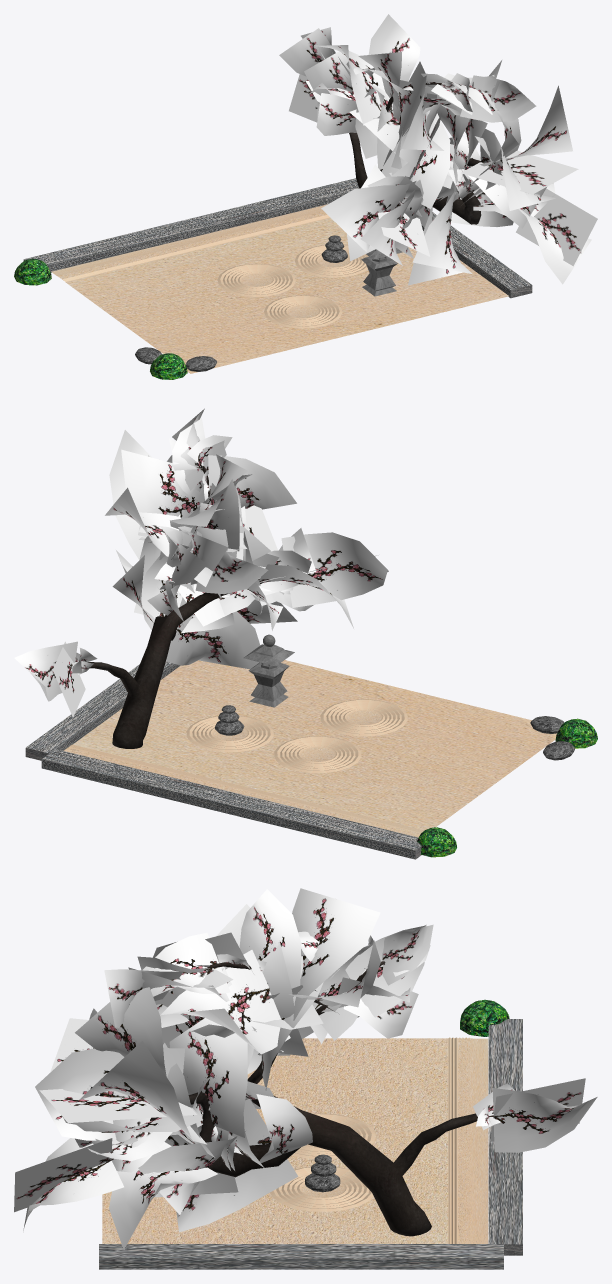
Rendered from Arena.obj.
3 views of the same model, one above another, from view 1: azimuth 30°, elevation 25°; view 2: azimuth 150°, elevation 25°; view 3: azimuth 270°, elevation 25° (orthographic). The views are drawn at different scales.
Visible parts, largest first — view 1: Arena, Roca5, group2 Plane081, group2 Plane031, group2 Plane025, group2 Plane032, Roca4, group2 Plane016, group2 Plane071, group2 Plane068, group2 Plane042, group2 Plane020 (+28 smaller); view 2: Arena, Roca5, group2 Loft001, group2 Plane081, group2 Plane056, group2 Plane070, Roca4, group2 Plane061, Farol, group2 Plane042, group2 Plane011, group2 Plane068 (+18 smaller); view 3: Arena, Roca4, group2 Loft001, Roca5, group2 Plane067, group2 Plane042, group2 Plane056, group2 Plane029, group2 Plane070, group2 Plane005, group2 Plane075, group2 Plane068 (+30 smaller).
Part boxes in pixels (left/top/right/bottom): Arena: left=51, top=204, right=508, bottom=373; Roca5: left=23, top=178, right=358, bottom=272; group2 Plane081: left=321, top=181, right=416, bottom=251; group2 Plane031: left=516, top=188, right=597, bottom=266; group2 Plane025: left=381, top=110, right=450, bottom=209; group2 Plane032: left=461, top=150, right=578, bottom=194; Roca4: left=421, top=212, right=532, bottom=298; group2 Plane016: left=460, top=75, right=536, bottom=122; group2 Plane071: left=412, top=181, right=472, bottom=274; group2 Plane068: left=479, top=85, right=572, bottom=166; group2 Plane042: left=314, top=45, right=385, bottom=125; group2 Plane020: left=368, top=14, right=420, bottom=81; Arena: left=63, top=660, right=556, bottom=837; Roca5: left=41, top=749, right=421, bottom=859; group2 Loft001: left=88, top=466, right=263, bottom=748; group2 Plane081: left=281, top=532, right=387, bottom=607; group2 Plane056: left=121, top=449, right=215, bottom=518; group2 Plane070: left=166, top=597, right=260, bottom=669; Roca4: left=25, top=661, right=180, bottom=760; group2 Plane061: left=208, top=455, right=296, bottom=509; Farol: left=243, top=634, right=294, bottom=707; group2 Plane042: left=170, top=479, right=239, bottom=551; group2 Plane011: left=195, top=551, right=268, bottom=594; group2 Plane068: left=109, top=430, right=151, bottom=560; Arena: left=102, top=1037, right=488, bottom=1243; Roca4: left=99, top=1244, right=503, bottom=1269; group2 Loft001: left=103, top=961, right=495, bottom=1236; Roca5: left=488, top=1019, right=522, bottom=1255; group2 Plane067: left=169, top=1018, right=247, bottom=1137; group2 Plane042: left=292, top=888, right=380, bottom=1020; group2 Plane056: left=161, top=950, right=290, bottom=1054; group2 Plane029: left=492, top=1088, right=597, bottom=1152; group2 Plane070: left=176, top=1098, right=298, bottom=1232; group2 Plane005: left=35, top=1048, right=185, bottom=1140; group2 Plane075: left=75, top=987, right=166, bottom=1076; group2 Plane068: left=79, top=1041, right=206, bottom=1144.
Size of the model in its own units: 165 by 83.52 by 144.
7 materials, 7 textured.
